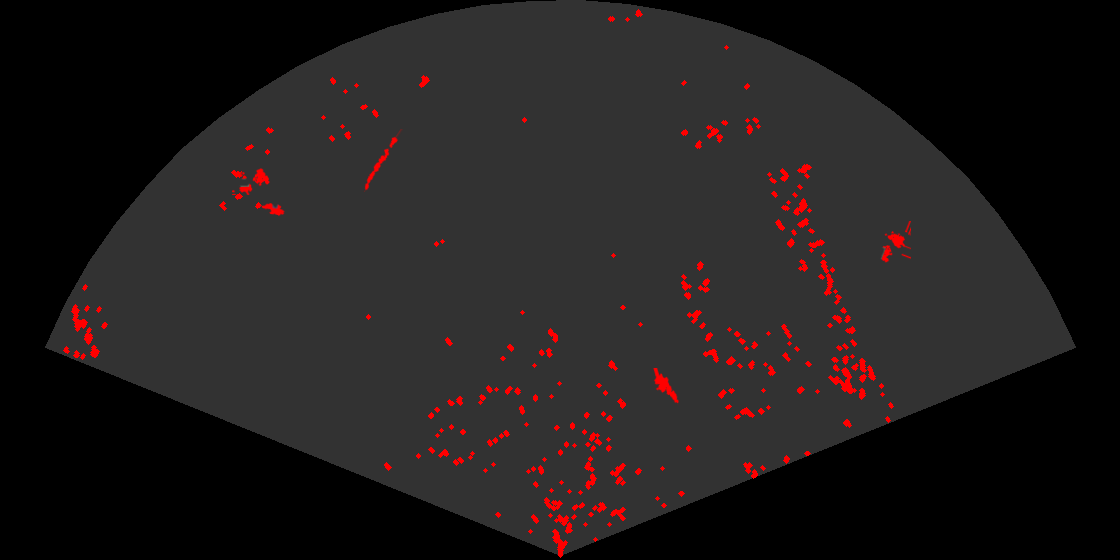AUV: (260, 201, 286, 218)
cage: (880, 221, 911, 264), (232, 167, 271, 195)
chain: (362, 129, 403, 192)
frogman: (652, 368, 680, 406)
